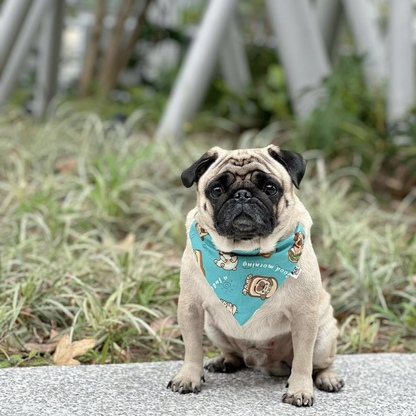Pug: (163, 140, 347, 408)
